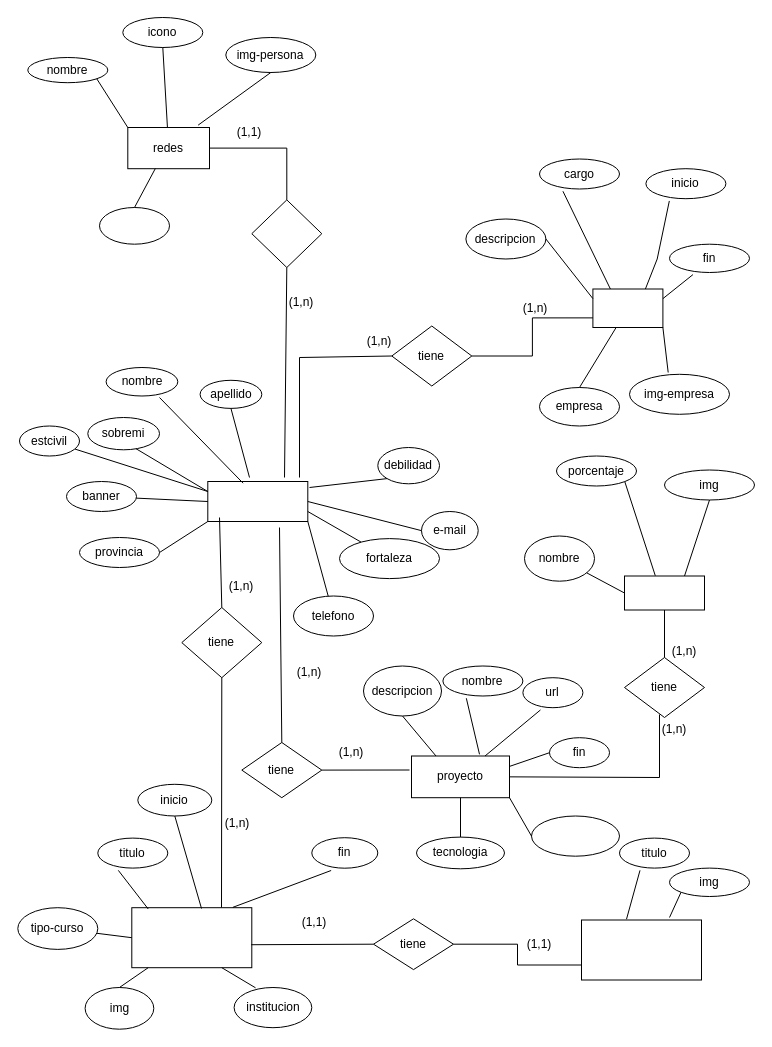
Some shapes in this 772 by 1047 pixel diagram are drawn without their labels. The box of each missing label's shape, as (x1, y1, x2, y2) in pixels:
certificado: (580, 919, 702, 980)
enlace: (98, 206, 170, 244)
estudio: (131, 907, 252, 968)
experiencia: (592, 288, 663, 328)
habilidad: (624, 575, 704, 610)
img-proyecto: (530, 815, 620, 856)
persona: (207, 480, 308, 522)
posee: (251, 199, 322, 268)
